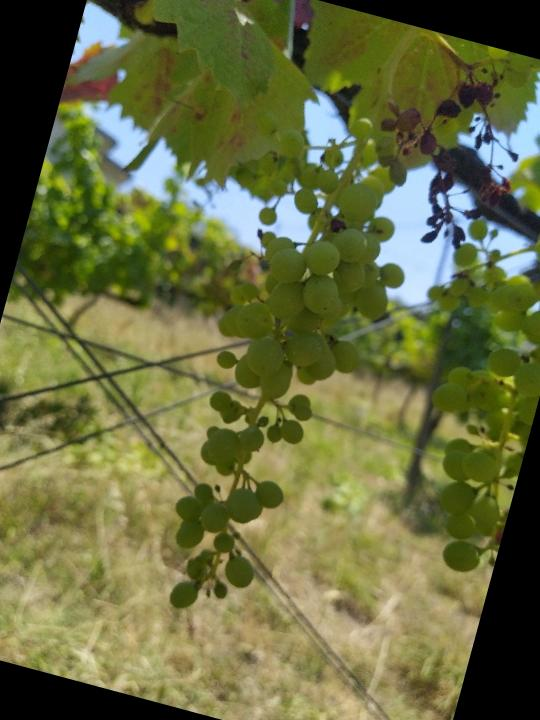grape: (133, 85, 453, 648), (350, 31, 540, 276)
